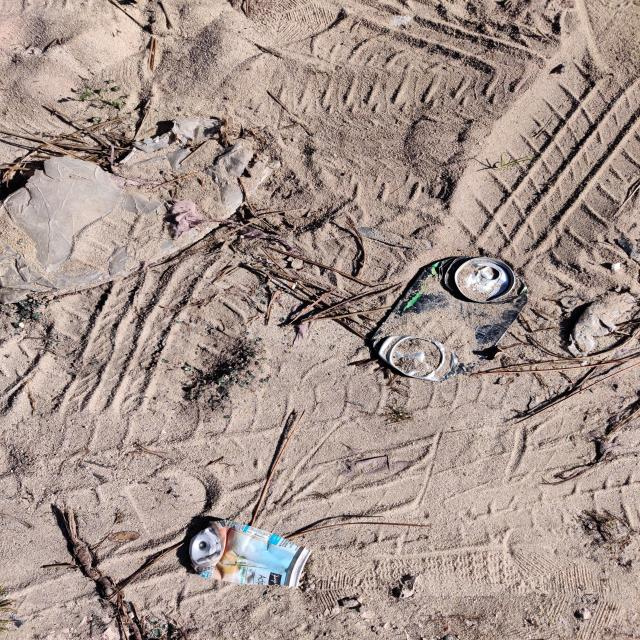litter: (371, 256, 528, 382), (189, 522, 312, 587)
